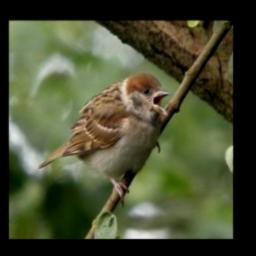Sparrow: (38, 70, 171, 208)
